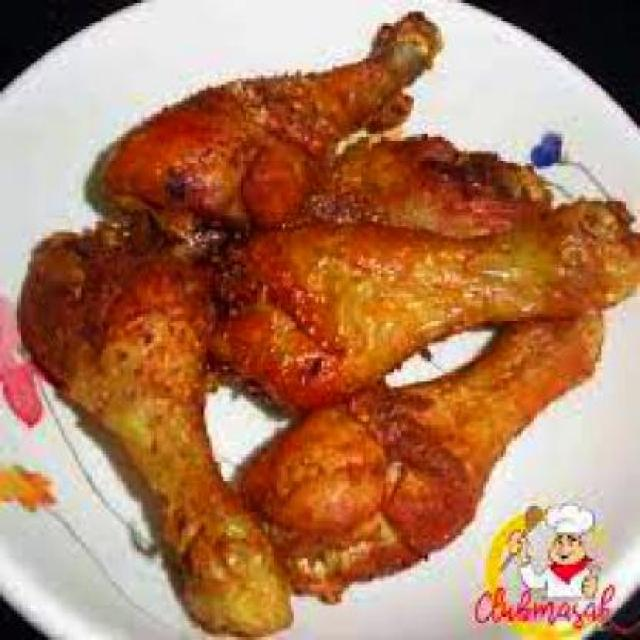Frango: (19, 180, 316, 637), (221, 370, 590, 552), (204, 218, 621, 352), (84, 58, 416, 178), (352, 99, 620, 227)
